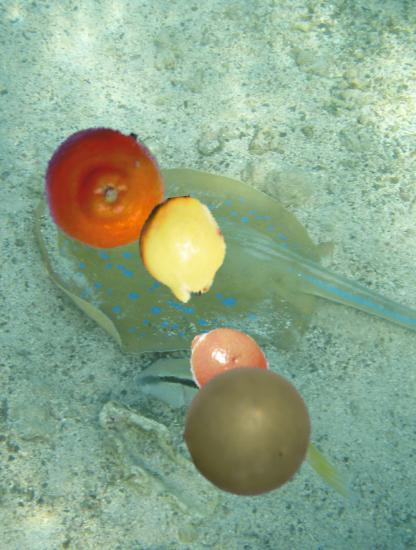Grape: (181, 364, 315, 498)
Quince: (129, 197, 235, 303)
Tangelo: (41, 123, 169, 251), (184, 323, 270, 409)
